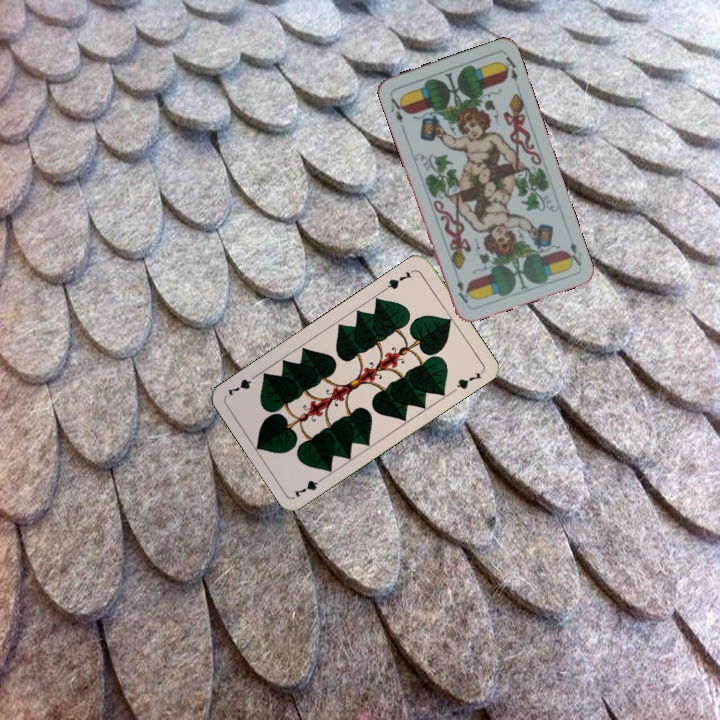EA: (386, 91, 408, 126), (563, 238, 584, 268)
G7: (290, 472, 328, 500), (381, 266, 417, 293)
